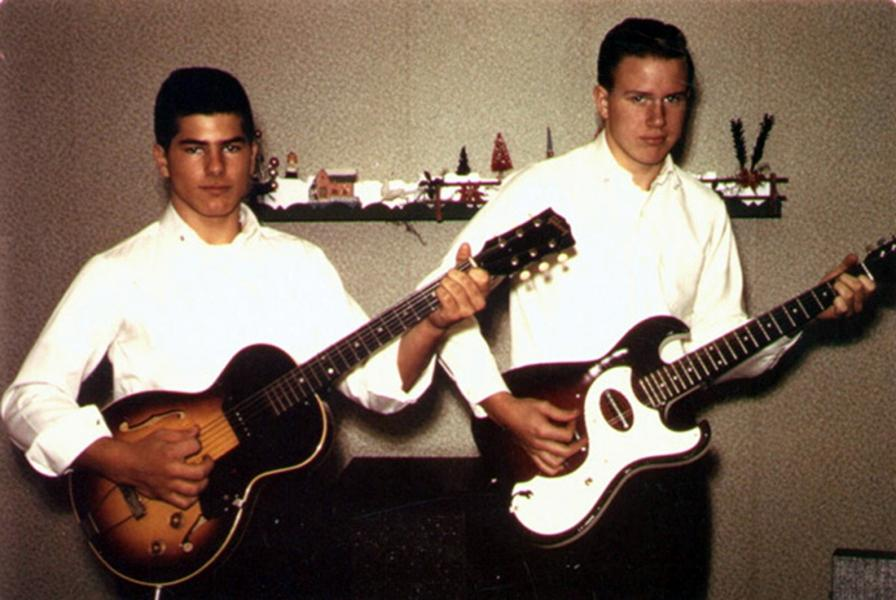person: (4, 65, 491, 598)
